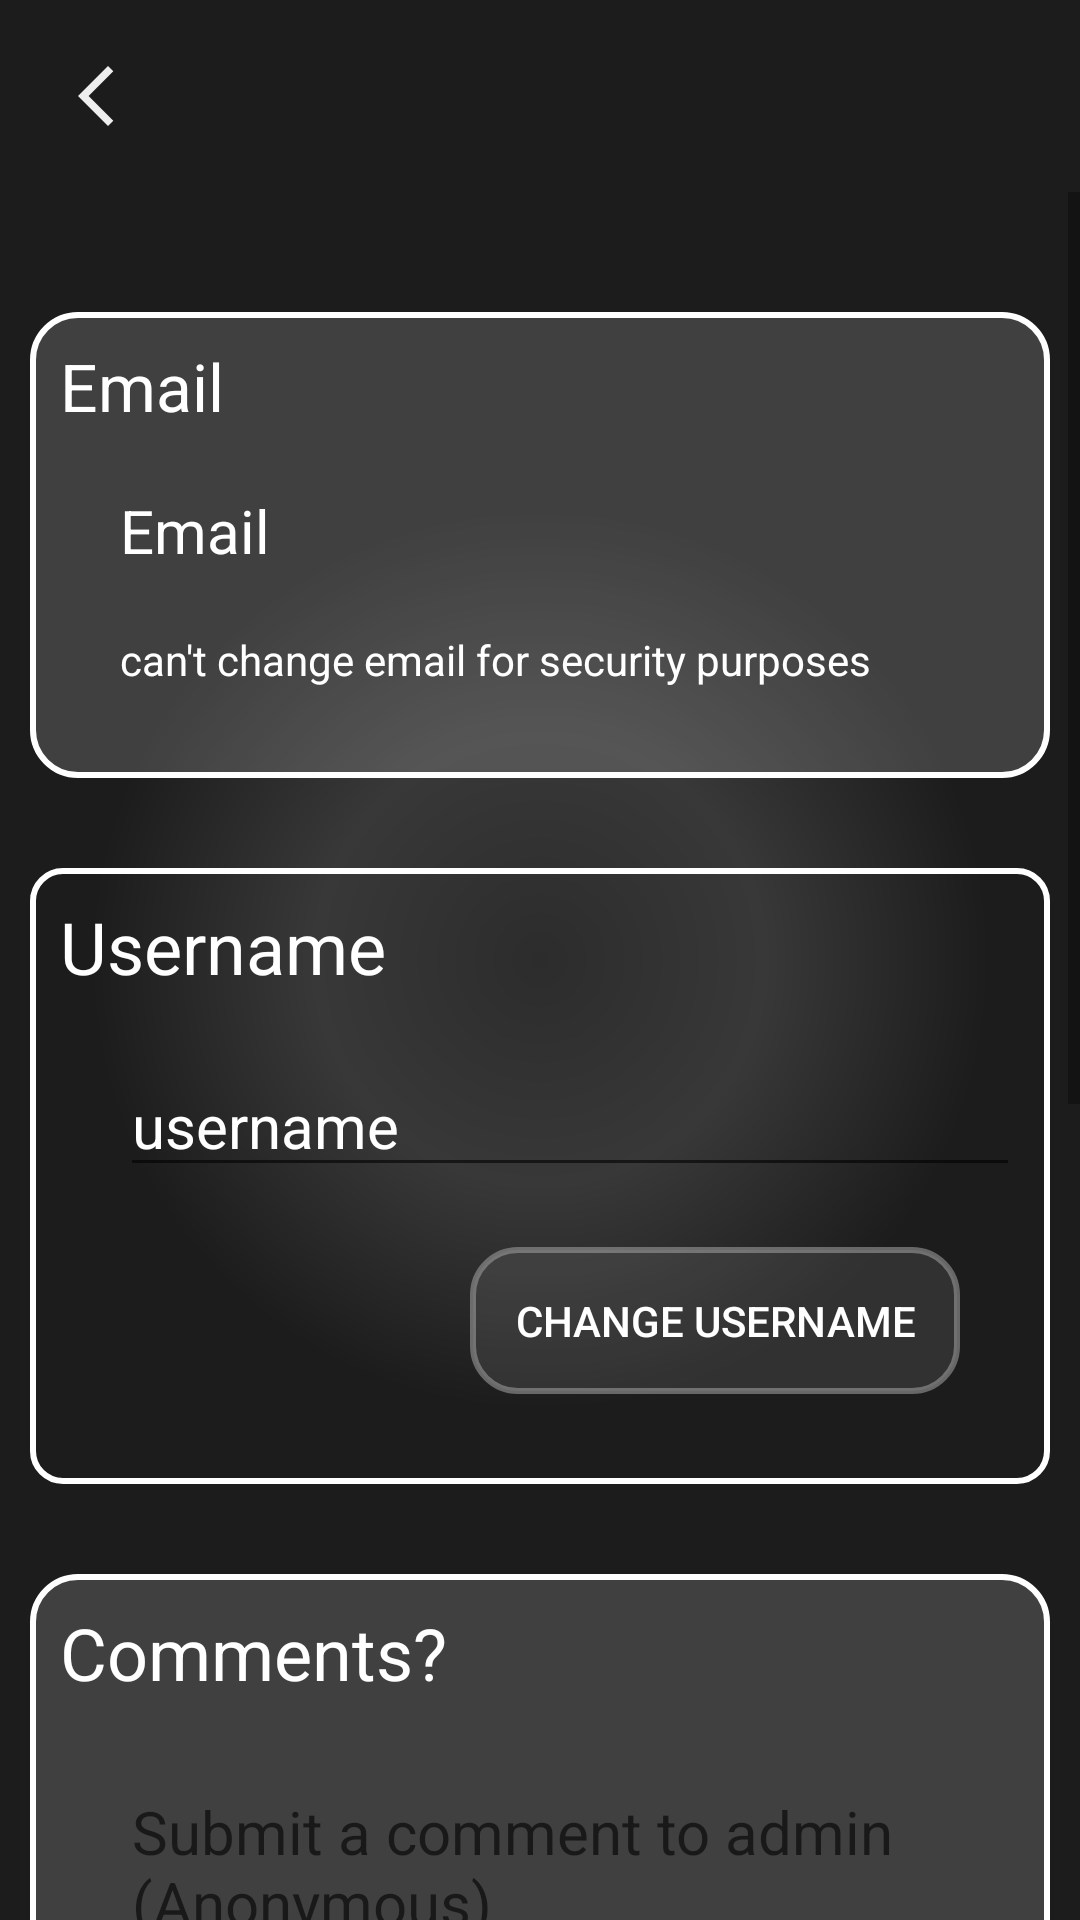

Locate icon controls on the screen. Image size 1080x1920, boxes as (left=x1, top=y1, right=x2, bottom=y2).
arrow back: (left=78, top=66, right=113, bottom=126)
